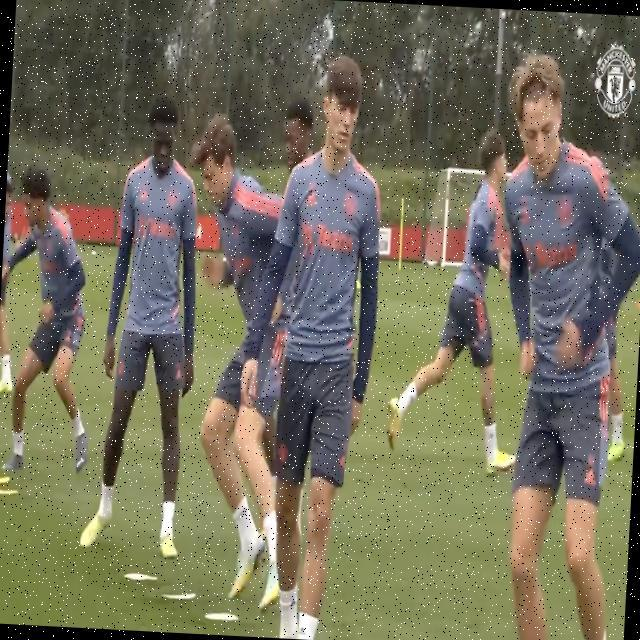Adidas: (583, 469, 597, 489), (305, 187, 318, 207)
